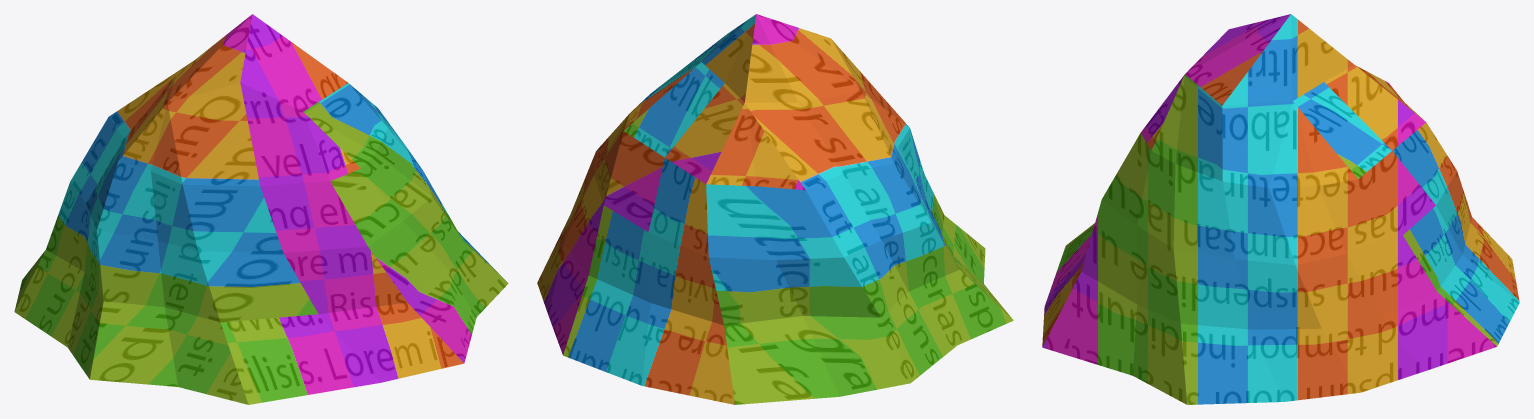
Rendered from SM_Mountain_8.fbx.
3 renders of one model, left to right at view 1: azimuth 30°, elevation 25°; view 2: azimuth 150°, elevation 25°; view 3: azimuth 270°, elevation 25°, orthographic. The views are drawn at different scales.
Parts seen in each view (by area): view 1: SM_Mountain_8; view 2: SM_Mountain_8; view 3: SM_Mountain_8.
Boxes of the visible parts, x1,y1,x2,y2 form: SM_Mountain_8: [14, 14, 508, 404]; SM_Mountain_8: [537, 14, 1013, 404]; SM_Mountain_8: [1042, 14, 1519, 404].
Size of the model in its own units: 137 by 89.69 by 134.
Materials: 1 (1 with a texture image).
